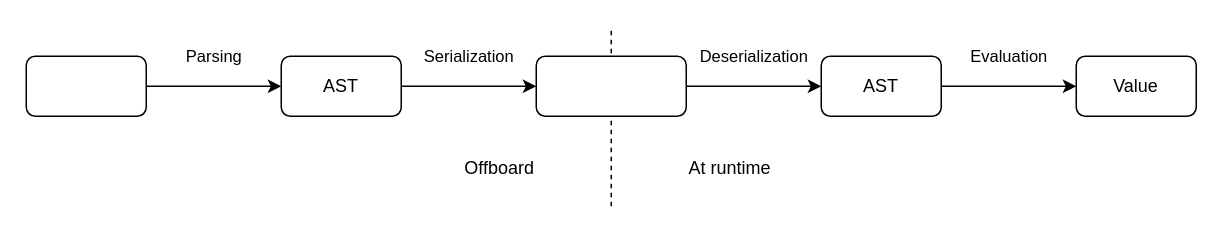
The diagram is 1223 pixels wide and 234 high, and some of its shapes have lost their labels. The centre of each missing label's shape, as x and y in pixels:
Bytes: the point at 610,85
Text: the point at 85,85
